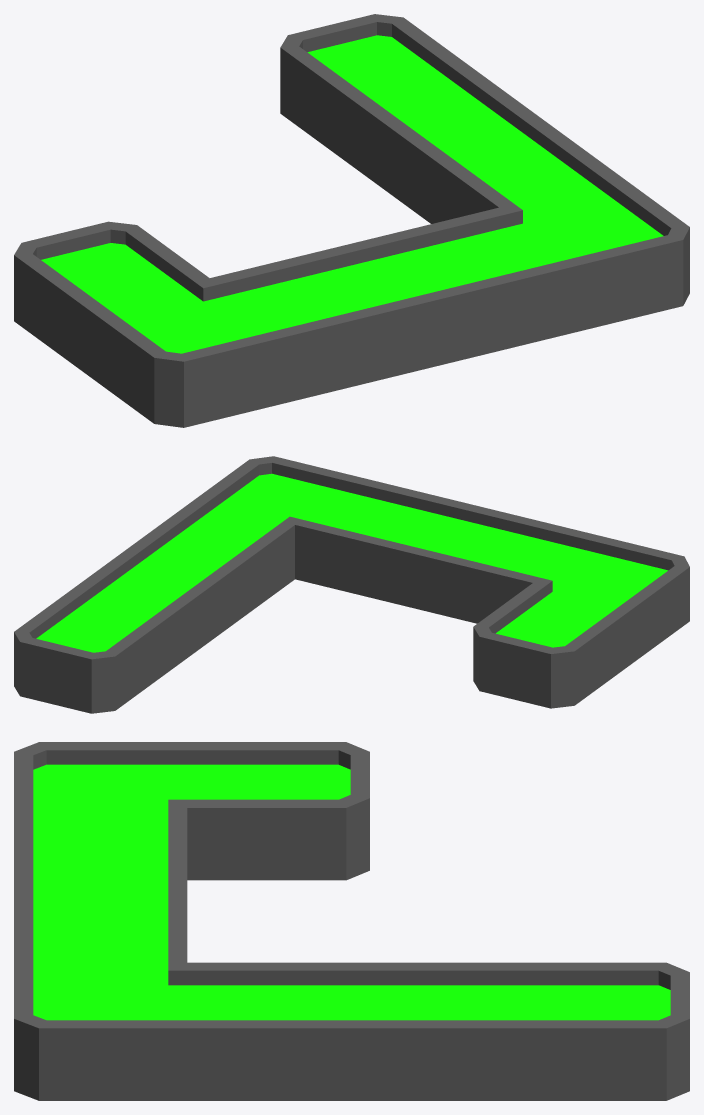
File: Japanese_3D_02_つ.FBX
3 renders of one model, top to bottom at view 1: azimuth 30°, elevation 25°; view 2: azimuth 150°, elevation 25°; view 3: azimuth 270°, elevation 25°, orthographic. The views are drawn at different scales.
Visible parts, largest first — view 1: Japanese_3D_02_つ; view 2: Japanese_3D_02_つ; view 3: Japanese_3D_02_つ.
Part boxes in pixels (left/top/right/bottom): Japanese_3D_02_つ: left=14, top=14, right=689, bottom=427; Japanese_3D_02_つ: left=14, top=456, right=689, bottom=713; Japanese_3D_02_つ: left=14, top=742, right=689, bottom=1100.
Size of the model in its own units: 63.51 by 7.5 by 63.36.
